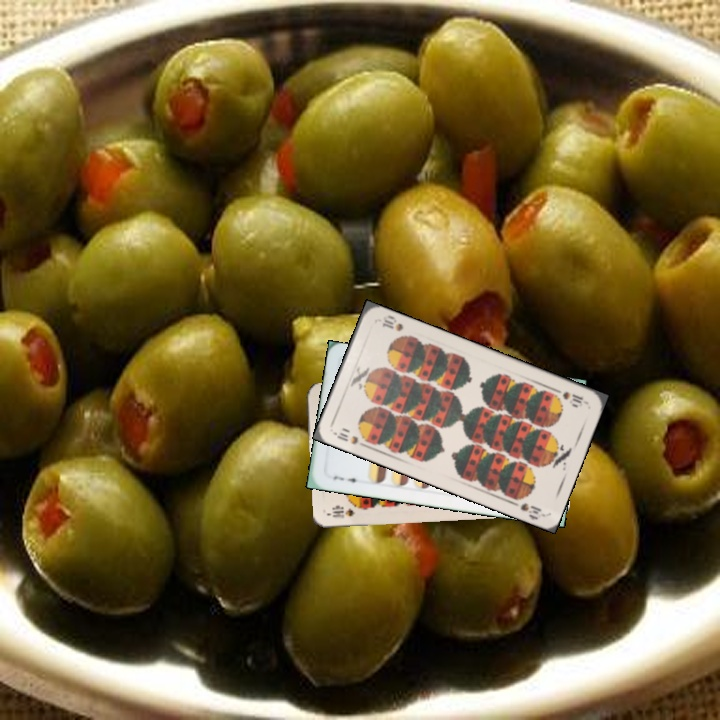E7: (329, 472, 363, 486)
S10: (550, 384, 589, 409), (330, 428, 370, 450), (326, 504, 357, 521)
